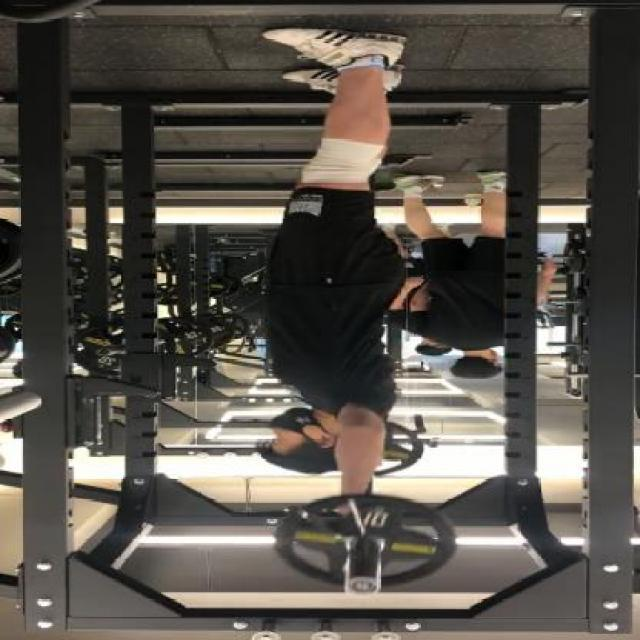Barbell: (341, 574, 394, 598)
